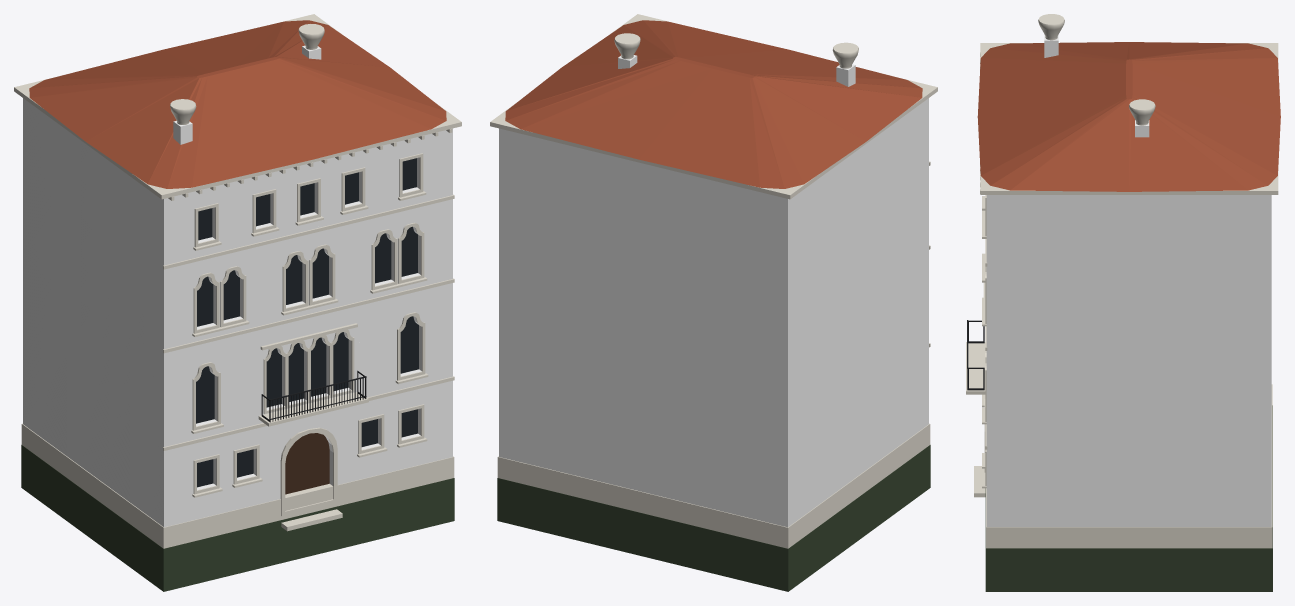
The model's file is palazzo-gothic.glb.
3 renders of one model, left to right at view 1: azimuth 30°, elevation 25°; view 2: azimuth 150°, elevation 25°; view 3: azimuth 270°, elevation 25°, orthographic.
Parts seen in each view (by area): view 1: wall72, roof75, algae74, stone73, stone76, wood1, stone56, stone37, stone0, stone30, glass25, glass28 (+20 smaller); view 2: wall72, roof75, algae74, stone73, stone76; view 3: wall72, roof75, algae74, stone73, stone76, stone30, stone81, stone79.
Part boxes in pixels (bbox=[...]): wall72: bbox=[23, 98, 452, 527]; roof75: bbox=[29, 20, 446, 188]; algae74: bbox=[21, 445, 454, 591]; stone73: bbox=[21, 423, 454, 548]; stone76: bbox=[14, 14, 461, 199]; wood1: bbox=[285, 433, 329, 494]; stone56: bbox=[163, 194, 454, 269]; stone37: bbox=[163, 278, 454, 353]; stone0: bbox=[280, 427, 337, 516]; stone30: bbox=[258, 392, 368, 426]; glass25: bbox=[196, 366, 214, 423]; glass28: bbox=[400, 316, 418, 373]; wall72: bbox=[499, 98, 928, 527]; roof75: bbox=[505, 20, 922, 188]; algae74: bbox=[497, 445, 930, 591]; stone73: bbox=[497, 423, 930, 548]; stone76: bbox=[490, 14, 937, 199]; wall72: bbox=[986, 195, 1271, 526]; roof75: bbox=[977, 42, 1280, 191]; algae74: bbox=[985, 405, 1272, 591]; stone73: bbox=[986, 384, 1272, 548]; stone76: bbox=[980, 43, 1278, 194]; stone30: bbox=[966, 342, 985, 394]; stone81: bbox=[1129, 99, 1155, 125]; stone79: bbox=[1038, 14, 1064, 40].
Bounding box in the file's own units: 13.7 × 19.38 × 12.15.
